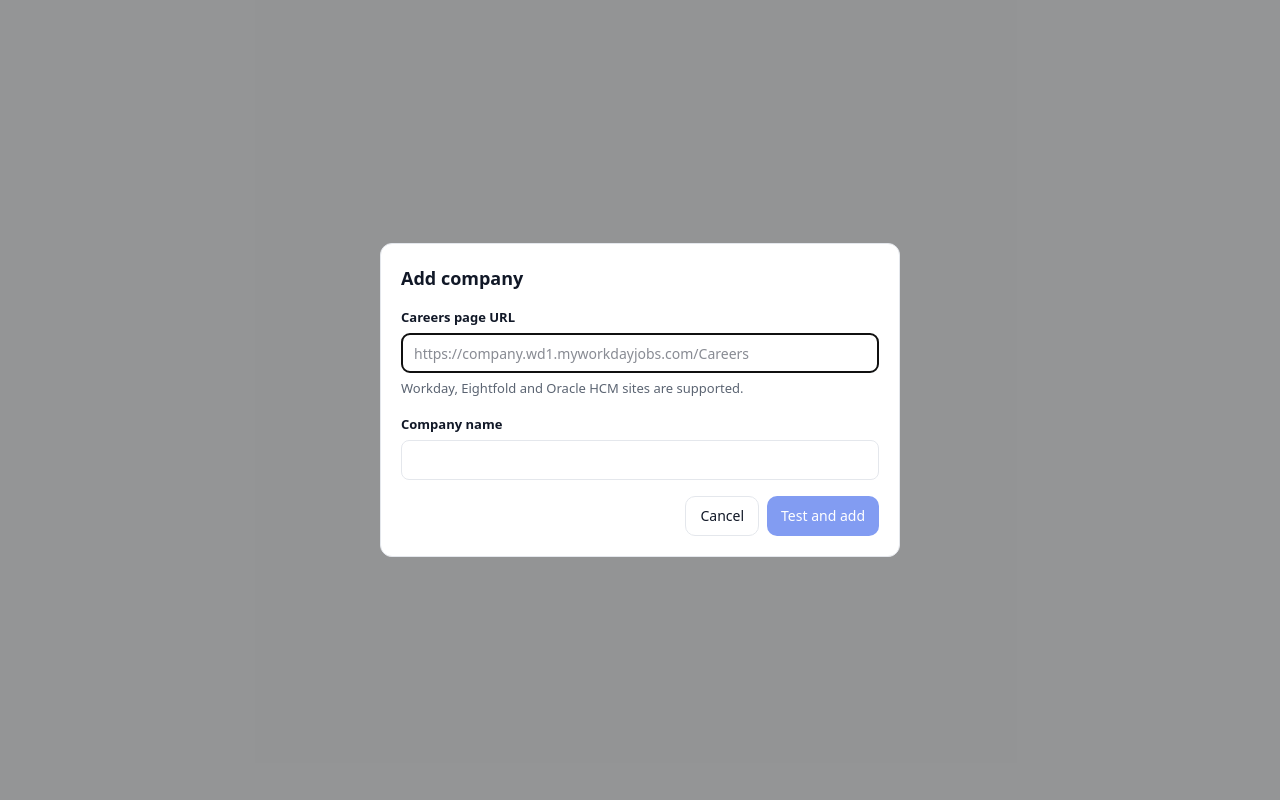
Scenario: an unknown URL shows why and Save stays off
The width and height of the screenshot is (1280, 800).
Type "Example" into the field labelled "Company name". click: [640, 460]
box: [401,440,879,480]
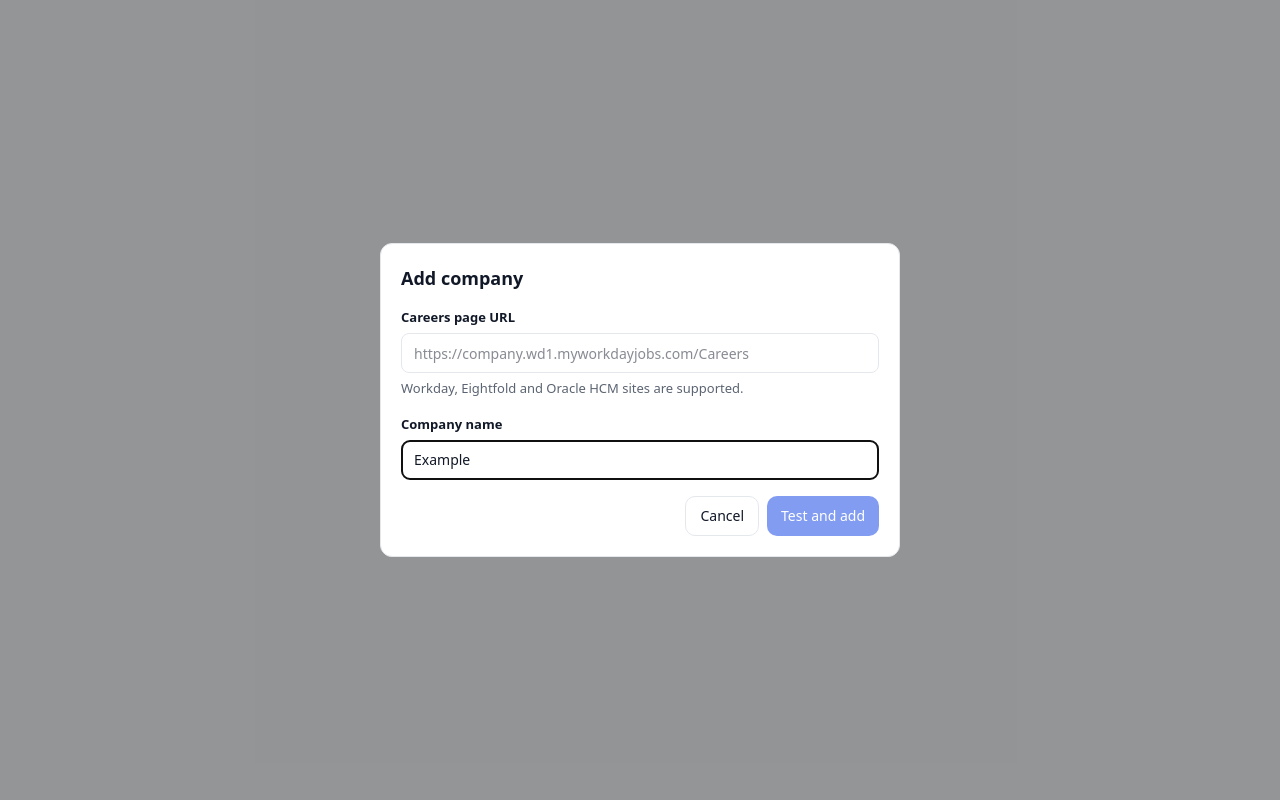
Click the field labelled "Careers page URL". click: [640, 353]
box: [401,333,879,373]
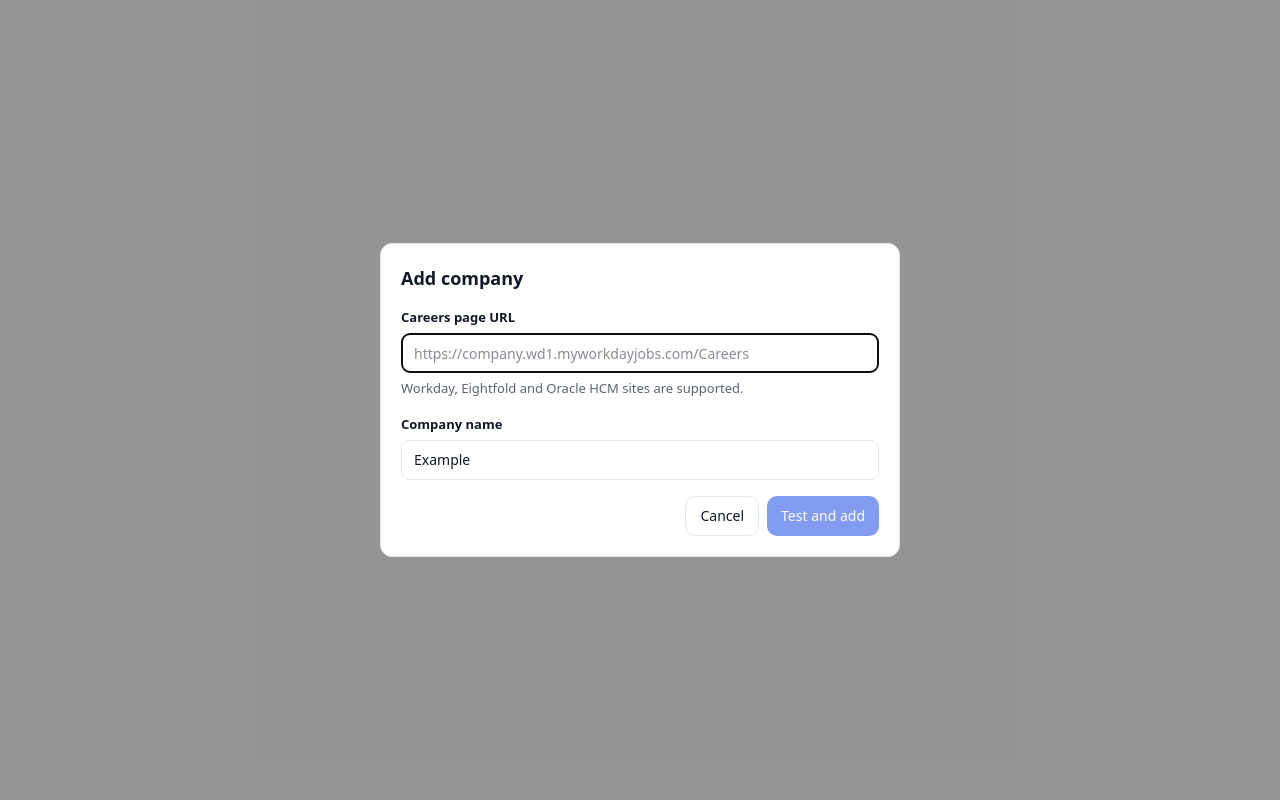
Type keys "https://example.com/jobs"
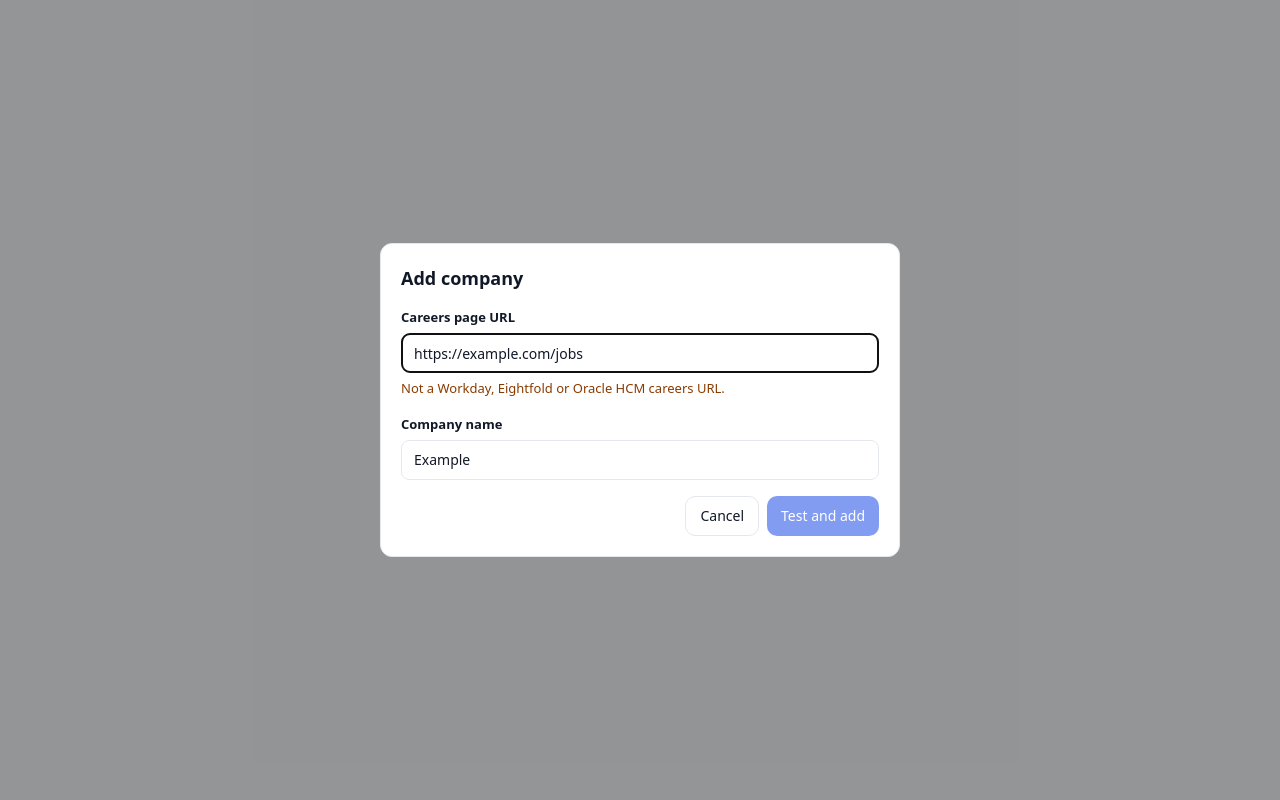
Check: the button "Test and add" is disabled, box [767,496,879,536]
Check: the text "Not a Workday, Eightfold or Oracle HCM careers URL." is shown, box [401,379,725,397]
